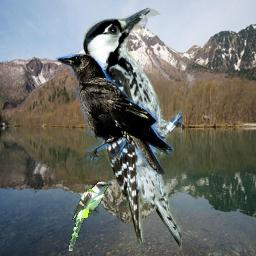Crow: (51, 52, 174, 177)
Cuckoo: (68, 181, 113, 251)
Woodpecker: (82, 7, 182, 250)
